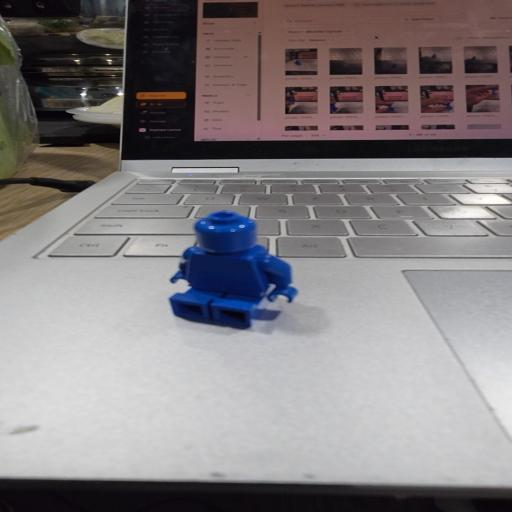Blue: (170, 210, 296, 327)
